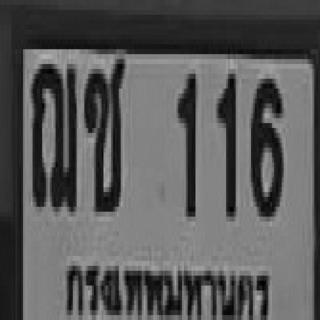A10: (82, 54, 123, 207)
A12: (31, 59, 75, 207)
N01: (215, 71, 234, 214), (176, 69, 195, 212)
N06: (249, 74, 282, 212)
P04: (58, 246, 276, 320)
